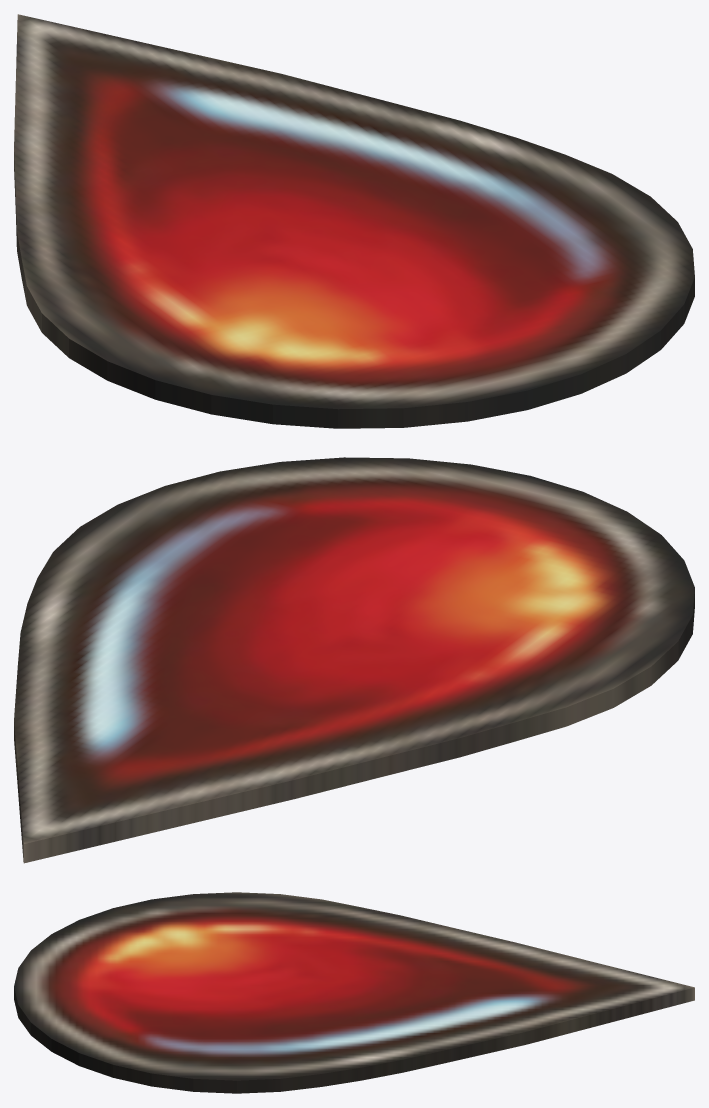
Rendered from BloodBloomHealth.glb.
The picture shows the model from 3 angles, top to bottom: view 1: azimuth 30°, elevation 25°; view 2: azimuth 150°, elevation 25°; view 3: azimuth 270°, elevation 25°; orthographic projection. The views are drawn at different scales.
Visible parts, largest first — view 1: Health; view 2: Health; view 3: Health.
Part boxes in pixels (x1,y1,x2,y2): Health: (14,14,694,428); Health: (14,457,694,863); Health: (14,892,694,1093).
Bounding box in the file's own units: 0.9302 × 0.03 × 1.42.
Materials: 1 (1 with a texture image).
